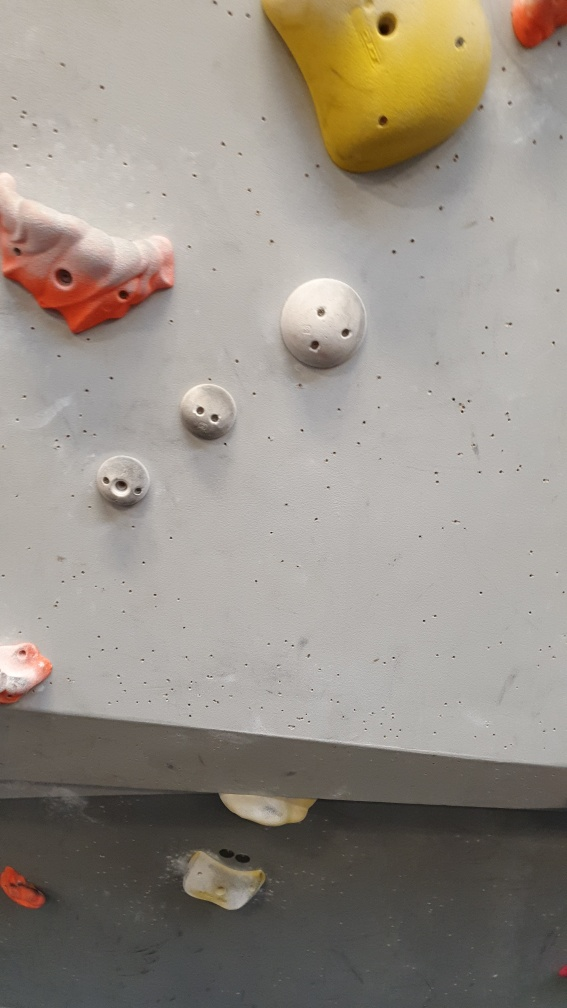Hand Start: (233, 849, 259, 868), (218, 843, 235, 863)
Jug: (1, 166, 180, 339), (1, 861, 54, 913)
Sloper: (276, 270, 370, 374), (176, 378, 241, 445), (92, 451, 153, 512)
